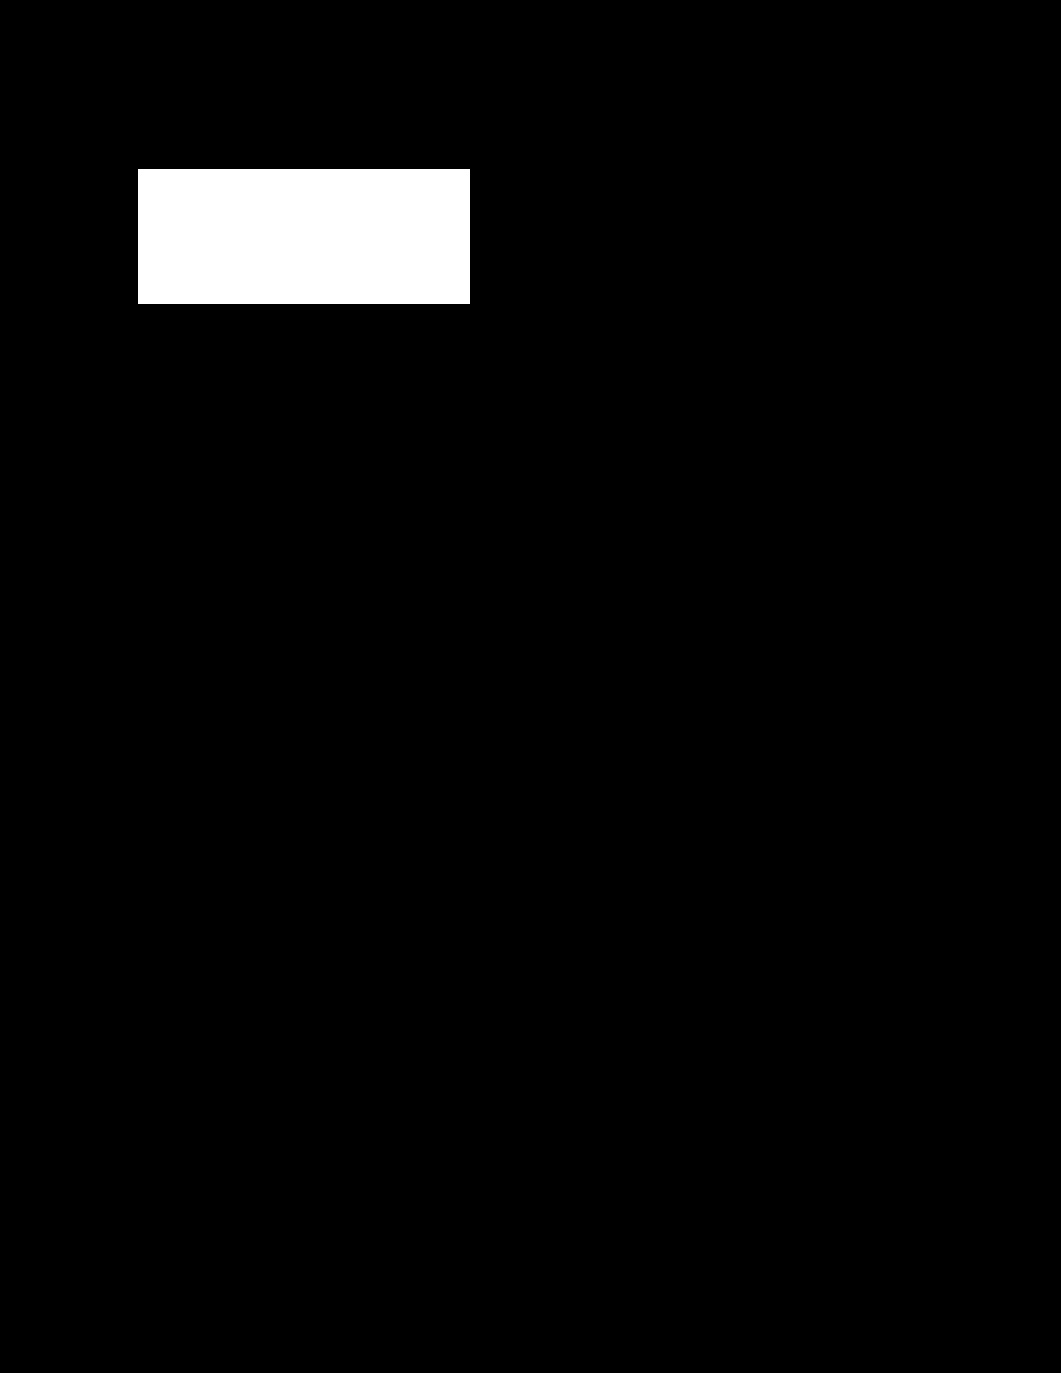table: (138, 169, 469, 303)
